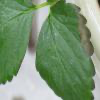Strawberry leaf: (36, 2, 94, 99)
